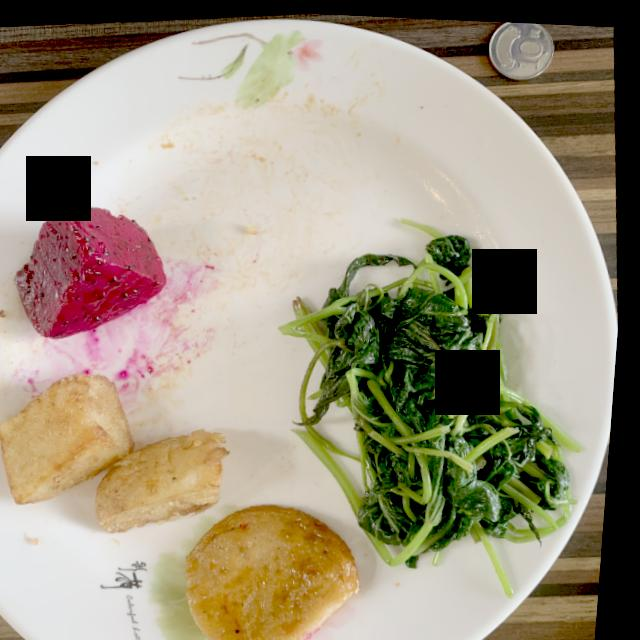coin: (488, 18, 552, 74)
fish cake: (193, 502, 368, 640)
fried potato: (3, 372, 234, 532)
sweet potato leaves: (284, 228, 586, 591)
